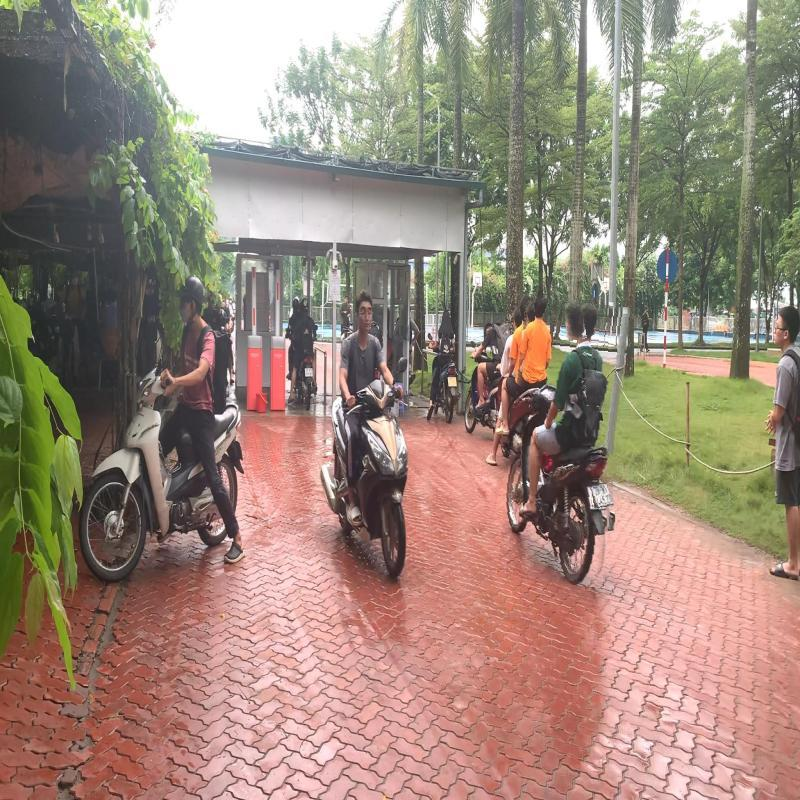licenseplate: (592, 482, 614, 508)
motorcyclist: (504, 299, 624, 586)
nohelmet: (563, 302, 586, 341)
